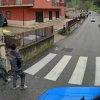crosswalks: (21, 47, 100, 86)
